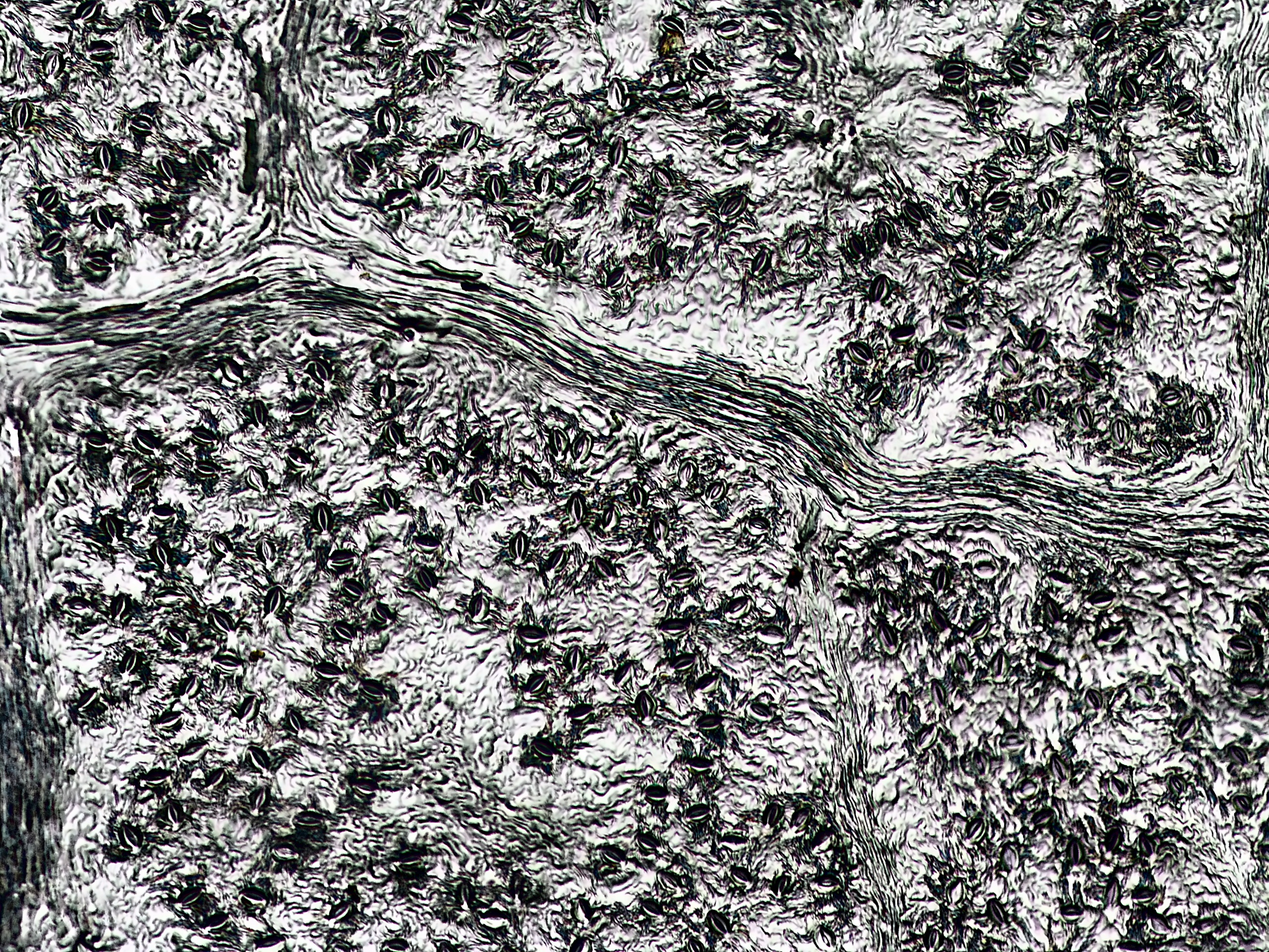stomata: (458, 586, 495, 625), (966, 549, 1007, 581), (234, 742, 276, 772), (7, 92, 39, 131), (523, 734, 563, 765), (977, 228, 1021, 256), (374, 416, 410, 449), (588, 551, 622, 585), (348, 147, 383, 180), (376, 180, 412, 212), (440, 7, 481, 35), (758, 108, 795, 139), (210, 645, 248, 675), (647, 234, 677, 271), (358, 676, 399, 703), (1025, 323, 1058, 356), (210, 349, 240, 385), (169, 882, 218, 904), (867, 276, 904, 305), (745, 694, 776, 728), (502, 525, 529, 564), (652, 70, 688, 99), (69, 426, 109, 452), (126, 106, 163, 134), (1042, 555, 1070, 592), (1234, 590, 1267, 621), (597, 264, 632, 293), (1225, 632, 1260, 661), (283, 398, 325, 422), (297, 361, 339, 385), (535, 95, 575, 120), (182, 13, 219, 40), (716, 193, 753, 220), (548, 540, 575, 577), (367, 600, 404, 627), (805, 825, 842, 852), (261, 584, 293, 615), (337, 20, 367, 53), (33, 183, 71, 209), (570, 427, 596, 465), (1196, 140, 1225, 174), (133, 0, 172, 25), (233, 883, 277, 905), (77, 36, 114, 62), (478, 905, 515, 931), (239, 688, 263, 728), (506, 57, 539, 86), (704, 906, 738, 934), (681, 748, 719, 773), (68, 0, 111, 22), (628, 688, 654, 724), (633, 832, 672, 856), (375, 106, 405, 137), (114, 820, 145, 850), (607, 656, 638, 686), (658, 864, 688, 895), (638, 894, 668, 925), (311, 660, 351, 683), (559, 123, 594, 149), (270, 838, 305, 864), (1020, 804, 1065, 824), (950, 258, 982, 285), (990, 350, 1022, 377), (755, 624, 791, 648), (608, 74, 631, 111), (1103, 164, 1137, 189), (929, 558, 954, 592), (87, 202, 116, 231), (246, 397, 275, 426), (44, 48, 68, 83), (129, 465, 160, 492), (186, 426, 224, 448), (713, 15, 745, 41), (943, 302, 969, 334), (286, 447, 319, 472), (813, 869, 841, 898), (1029, 383, 1056, 413), (1040, 599, 1067, 629), (155, 148, 178, 183), (775, 53, 810, 76), (315, 498, 338, 533), (937, 60, 977, 80), (570, 896, 595, 928), (661, 564, 699, 585), (610, 133, 632, 169), (1088, 584, 1116, 612), (192, 148, 219, 177), (914, 721, 941, 750), (288, 813, 334, 830), (1091, 19, 1121, 45), (253, 932, 292, 952), (507, 23, 542, 45), (214, 606, 238, 638), (674, 450, 698, 482), (98, 505, 117, 545), (149, 585, 187, 605), (1004, 55, 1037, 78), (721, 131, 757, 152), (747, 247, 774, 275), (522, 467, 549, 495), (1118, 277, 1147, 303), (874, 626, 900, 655), (890, 688, 916, 717), (1046, 749, 1072, 778), (1093, 310, 1118, 340), (808, 925, 838, 950), (567, 487, 589, 521), (958, 815, 989, 839), (694, 671, 726, 694), (568, 175, 595, 202), (1174, 712, 1201, 739), (459, 429, 485, 457), (984, 898, 1010, 926), (326, 896, 354, 922), (1111, 415, 1133, 448), (362, 379, 395, 401), (451, 876, 473, 909), (421, 447, 446, 476), (159, 798, 184, 827), (646, 168, 676, 192), (541, 238, 565, 268), (327, 547, 361, 568), (754, 8, 785, 31), (349, 772, 380, 795), (723, 831, 754, 854), (377, 23, 409, 45), (458, 119, 480, 151), (126, 426, 158, 448), (151, 538, 173, 570), (1053, 899, 1085, 921), (1163, 658, 1189, 685), (150, 499, 178, 524), (173, 737, 208, 757), (999, 841, 1022, 871), (895, 199, 926, 221), (95, 135, 115, 169), (511, 211, 537, 237), (1143, 42, 1168, 69), (1121, 77, 1146, 104), (158, 705, 185, 730), (747, 512, 772, 539), (724, 595, 751, 620), (87, 249, 115, 273), (1139, 251, 1171, 272), (1107, 776, 1135, 800), (1069, 405, 1092, 434), (547, 424, 570, 453), (519, 670, 548, 693), (657, 616, 694, 634), (146, 202, 176, 224), (416, 49, 438, 79), (1086, 97, 1116, 119), (929, 601, 951, 631), (1224, 791, 1257, 811), (636, 783, 669, 803), (486, 170, 507, 201), (1158, 387, 1183, 413), (644, 521, 670, 546), (730, 865, 756, 890), (533, 164, 551, 200), (1023, 2, 1050, 26), (888, 323, 924, 341), (846, 346, 878, 366), (59, 592, 91, 612), (1169, 94, 1198, 116), (1087, 237, 1117, 258), (1065, 838, 1086, 868), (1097, 828, 1127, 849), (116, 650, 141, 675), (569, 695, 594, 720), (621, 481, 645, 507), (329, 620, 356, 643), (579, 0, 601, 28), (945, 178, 967, 206), (1235, 677, 1263, 699), (1039, 181, 1060, 210), (422, 161, 447, 185), (567, 932, 597, 952), (1015, 774, 1038, 800), (1078, 361, 1100, 388), (844, 233, 865, 261), (987, 189, 1015, 210), (201, 766, 229, 787), (928, 681, 949, 709), (1191, 402, 1211, 431), (411, 568, 440, 588), (190, 458, 222, 476), (112, 588, 130, 620), (181, 673, 206, 696), (469, 478, 491, 504), (1008, 126, 1027, 156), (133, 769, 171, 784), (36, 230, 63, 251), (997, 727, 1024, 748), (788, 802, 809, 829), (683, 931, 710, 952), (200, 912, 231, 930), (700, 96, 737, 111), (630, 200, 654, 223), (211, 534, 235, 557), (1135, 833, 1158, 857), (1048, 127, 1067, 156), (1097, 621, 1126, 640), (341, 574, 366, 596), (163, 623, 188, 645), (1140, 3, 1166, 24), (1152, 435, 1170, 465), (568, 647, 588, 674), (685, 800, 712, 820), (689, 52, 717, 71), (1139, 208, 1167, 227), (415, 531, 443, 550), (282, 712, 305, 735), (864, 381, 888, 403), (969, 612, 991, 636), (664, 14, 689, 35), (249, 784, 270, 809), (601, 844, 626, 865), (974, 93, 1003, 111), (981, 161, 1010, 179), (789, 232, 809, 258), (872, 212, 888, 244), (709, 481, 732, 503), (80, 689, 104, 710), (919, 927, 943, 948), (770, 872, 791, 896), (375, 488, 400, 508), (987, 653, 1012, 673), (242, 470, 268, 489), (945, 876, 965, 900), (601, 507, 619, 533), (695, 714, 726, 729), (989, 400, 1009, 423), (1083, 688, 1103, 711), (514, 628, 549, 641), (762, 797, 778, 825), (668, 655, 702, 668), (1163, 771, 1185, 791), (261, 538, 279, 562), (476, 0, 506, 13), (916, 349, 932, 373), (1136, 681, 1160, 697), (951, 656, 969, 677), (1231, 744, 1248, 765), (884, 590, 899, 611), (1131, 889, 1155, 901)
